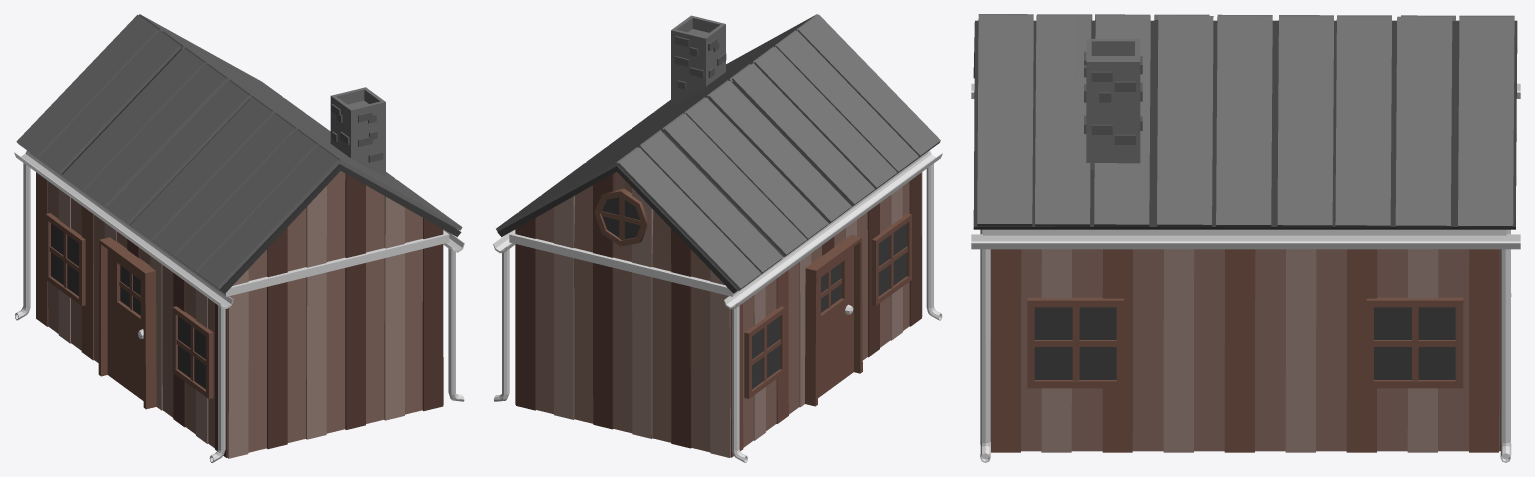
The model's file is House_2.FBX.
3 views of the same model, side by side, from view 1: azimuth 30°, elevation 25°; view 2: azimuth 150°, elevation 25°; view 3: azimuth 270°, elevation 25° (orthographic). The views are drawn at different scales.
Visible parts, largest first — view 1: House_2; view 2: House_2; view 3: House_2.
Part boxes in pixels (x1,y1,x2,y2): House_2: (14, 14, 464, 462); House_2: (493, 14, 942, 462); House_2: (971, 14, 1520, 462).
Size of the model in its own units: 396 by 425 by 562.
